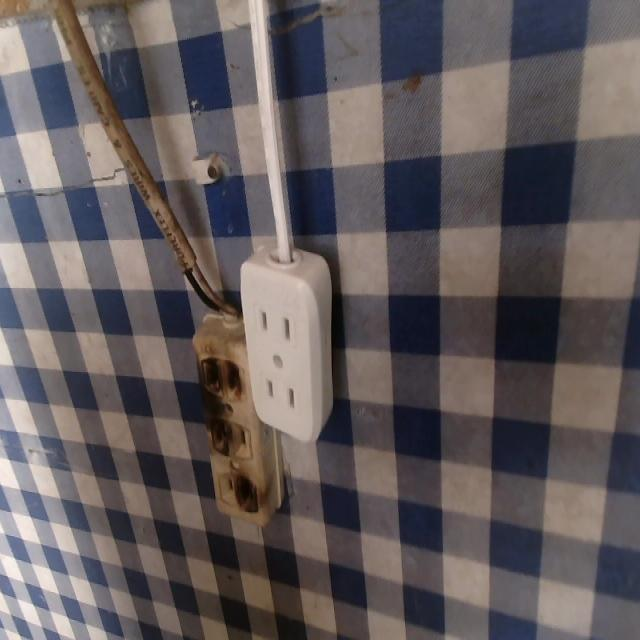-: (190, 348, 247, 408), (198, 405, 236, 463), (232, 466, 266, 518)
